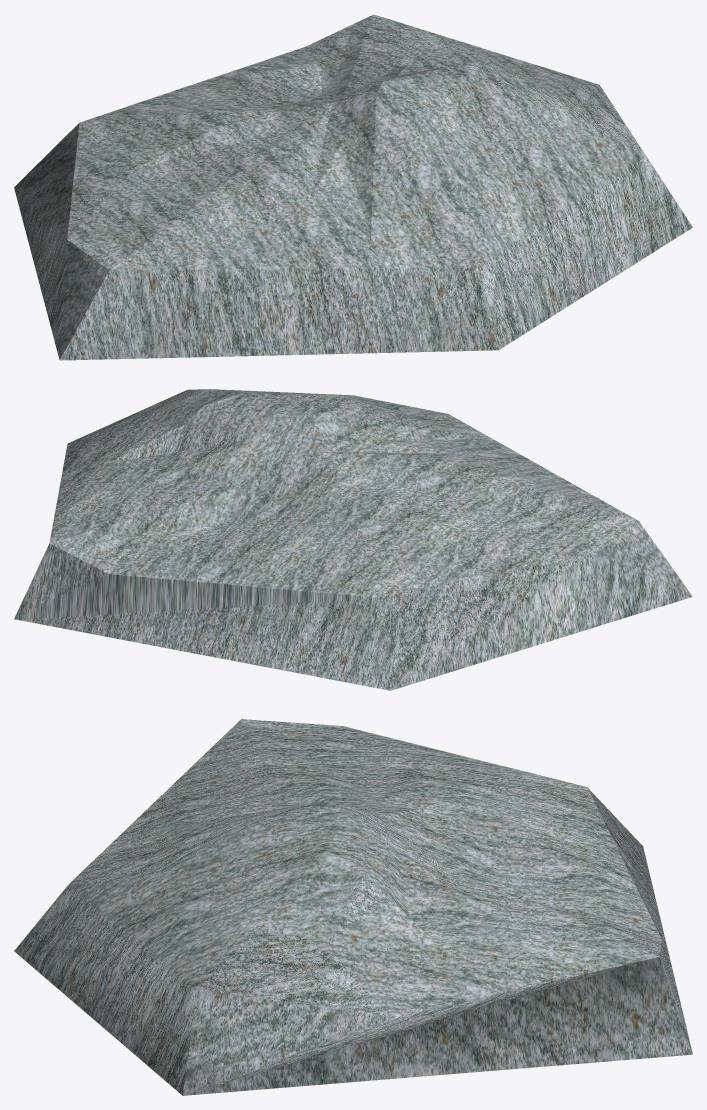
File: rock_graniteslab_large_l2.fbx
The picture shows the model from 3 angles, top to bottom: view 1: azimuth 30°, elevation 25°; view 2: azimuth 150°, elevation 25°; view 3: azimuth 270°, elevation 25°; orthographic projection. The views are drawn at different scales.
Visible parts, largest first — view 1: mesh_node; view 2: mesh_node; view 3: mesh_node.
Part boxes in pixels (x1,y1,x2,y2): mesh_node: (14, 14, 692, 360); mesh_node: (14, 389, 692, 690); mesh_node: (14, 719, 692, 1095).
Bounding box in the file's own units: 5.5 × 1.26 × 4.83.
